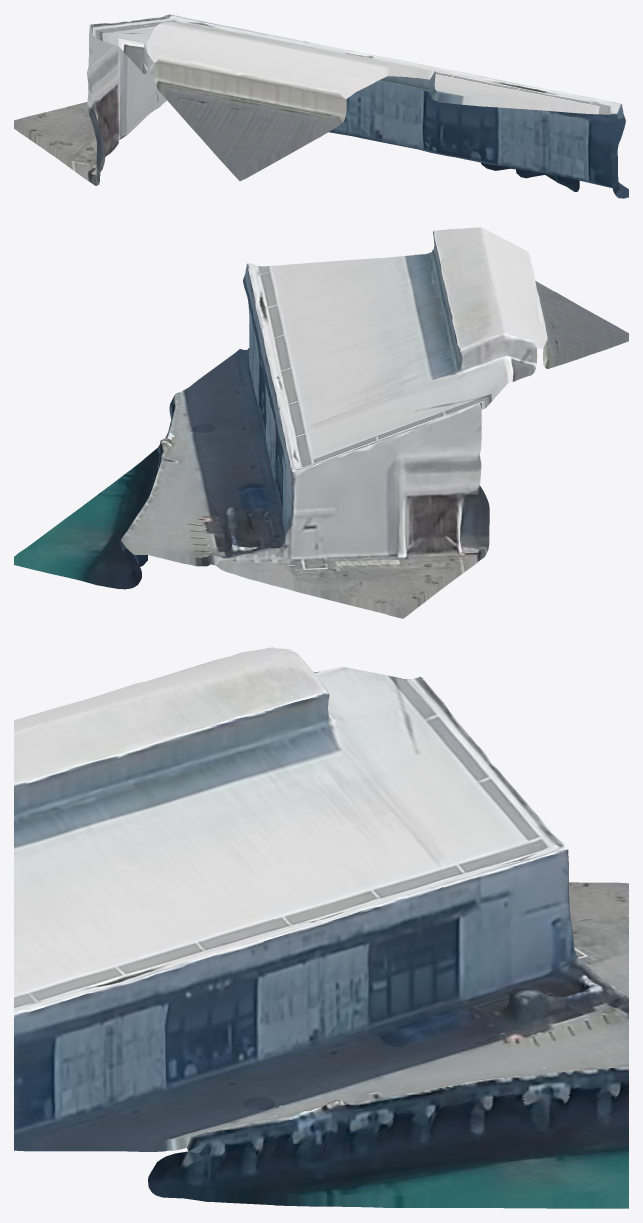
The model's file is z20-167774-405197-h0-yup-uvflip-v3-world.glb.
3 renders of one model, top to bottom at view 1: azimuth 30°, elevation 25°; view 2: azimuth 150°, elevation 25°; view 3: azimuth 270°, elevation 25°, orthographic. The views are drawn at different scales.
Size of the model in its own units: 30.16 by 17.16 by 30.32.
1 material, 1 textured.
